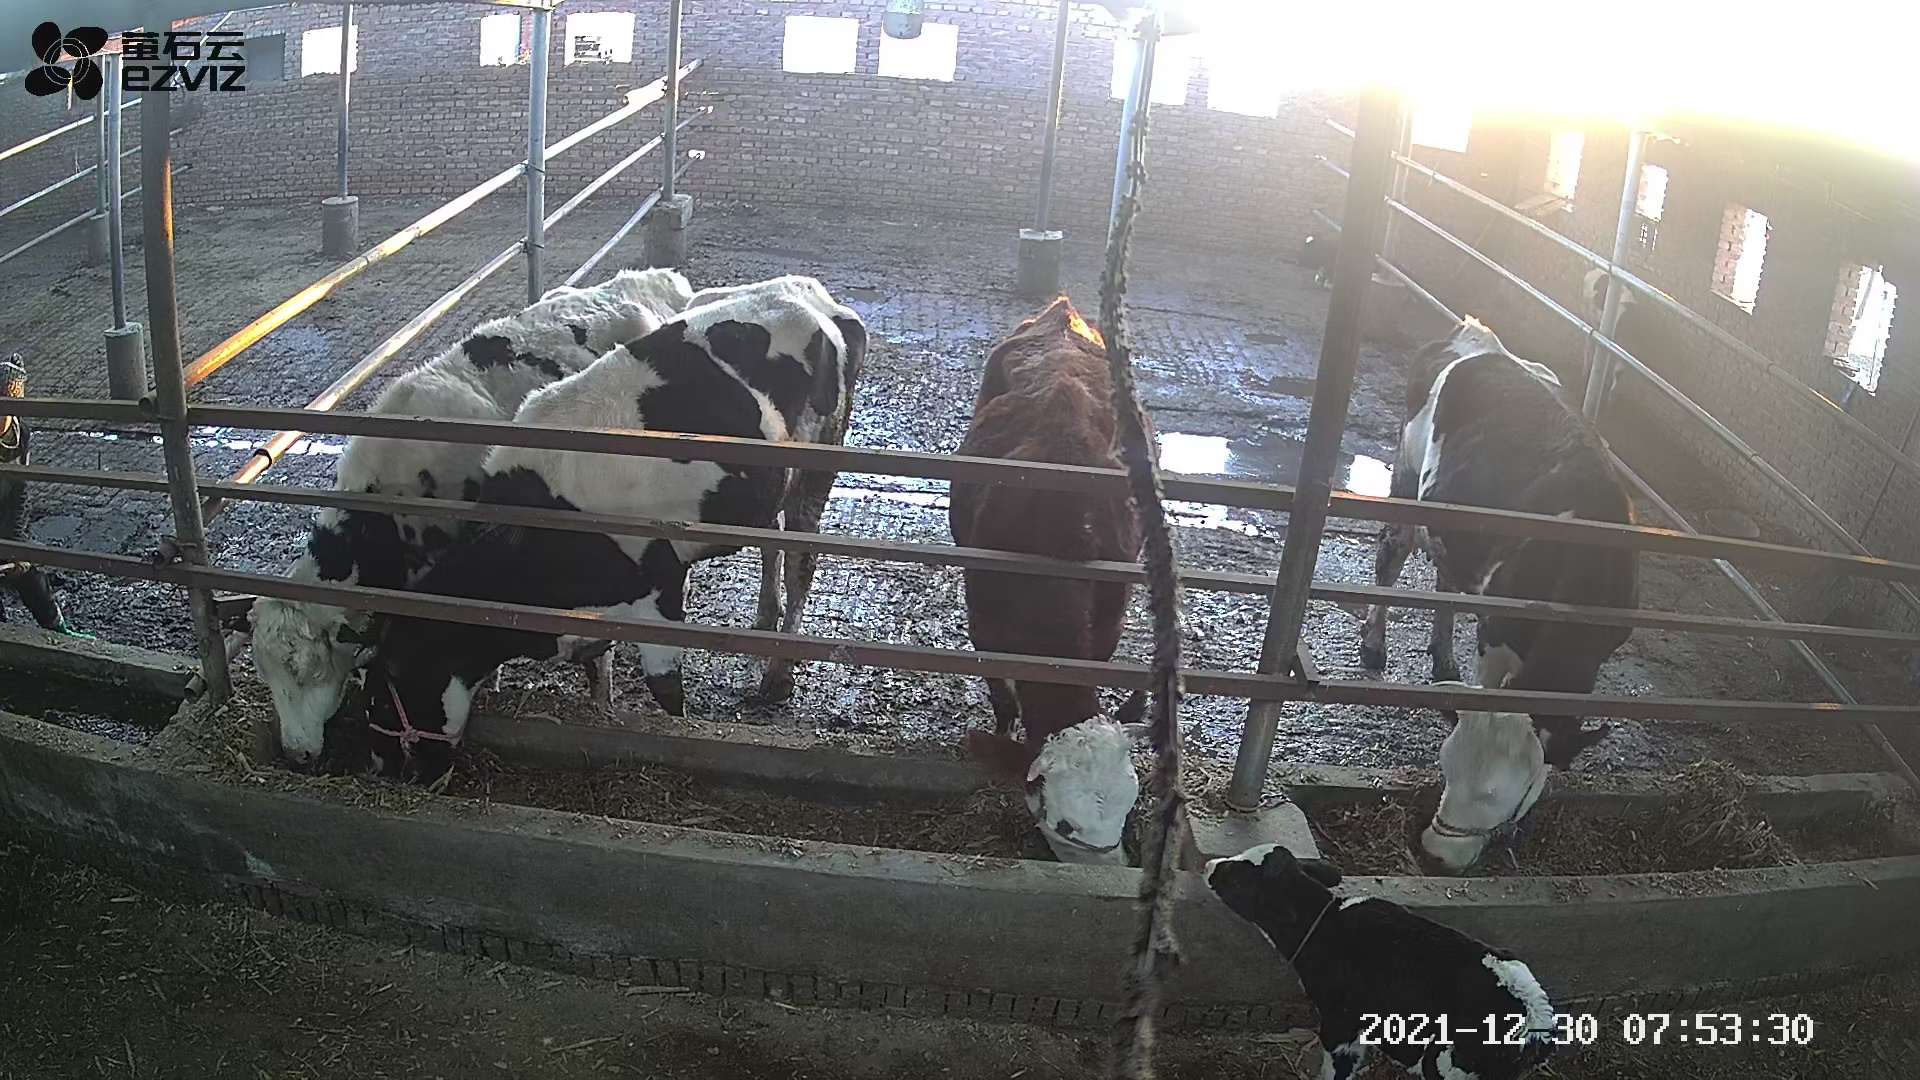cow: (348, 273, 868, 793), (222, 266, 692, 770), (1360, 313, 1639, 876), (945, 295, 1163, 866)
